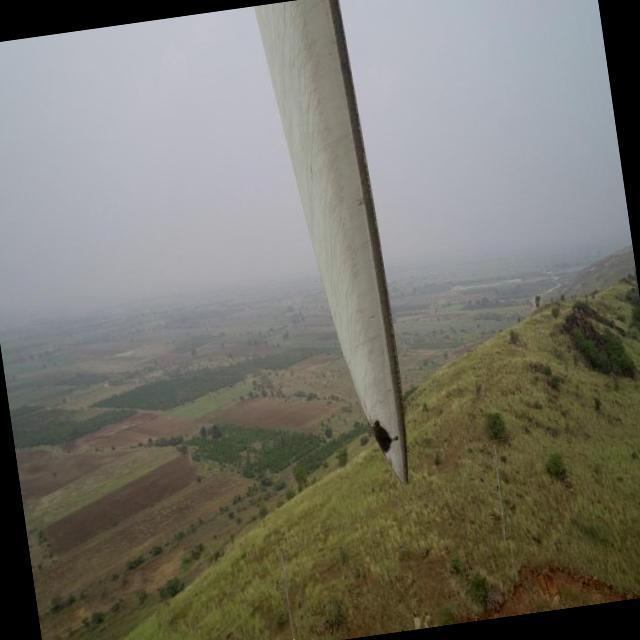Dirt: (252, 0, 411, 488)
Oil LEAKAGE: (371, 421, 395, 454)
Pin Hole: (392, 433, 400, 446)
